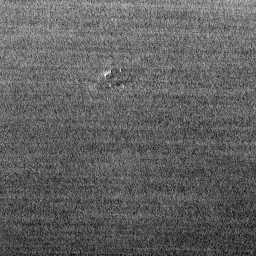con: (101, 69, 136, 91)
